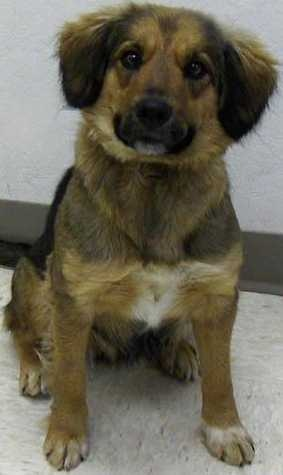Dog: (10, 3, 277, 396)
